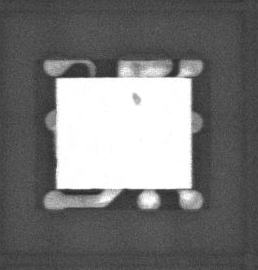DIE_INK: (124, 96, 136, 110)
